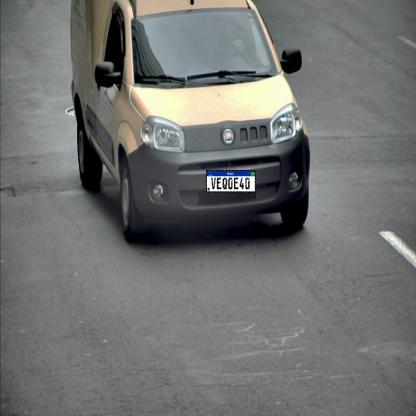PlacaM: (206, 170, 256, 193)
